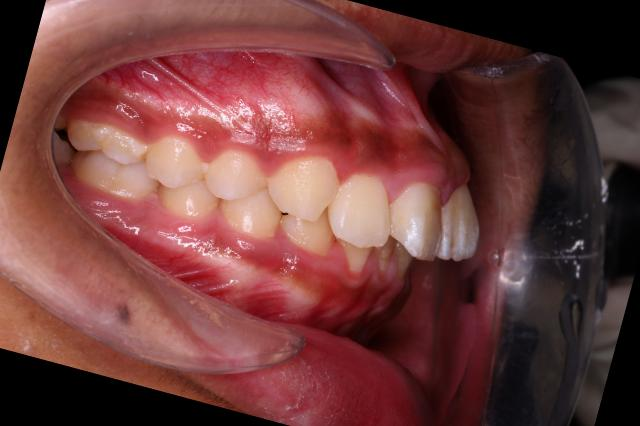canine class II 1/2: (212, 135, 358, 264)
molar class I: (50, 108, 173, 213)
